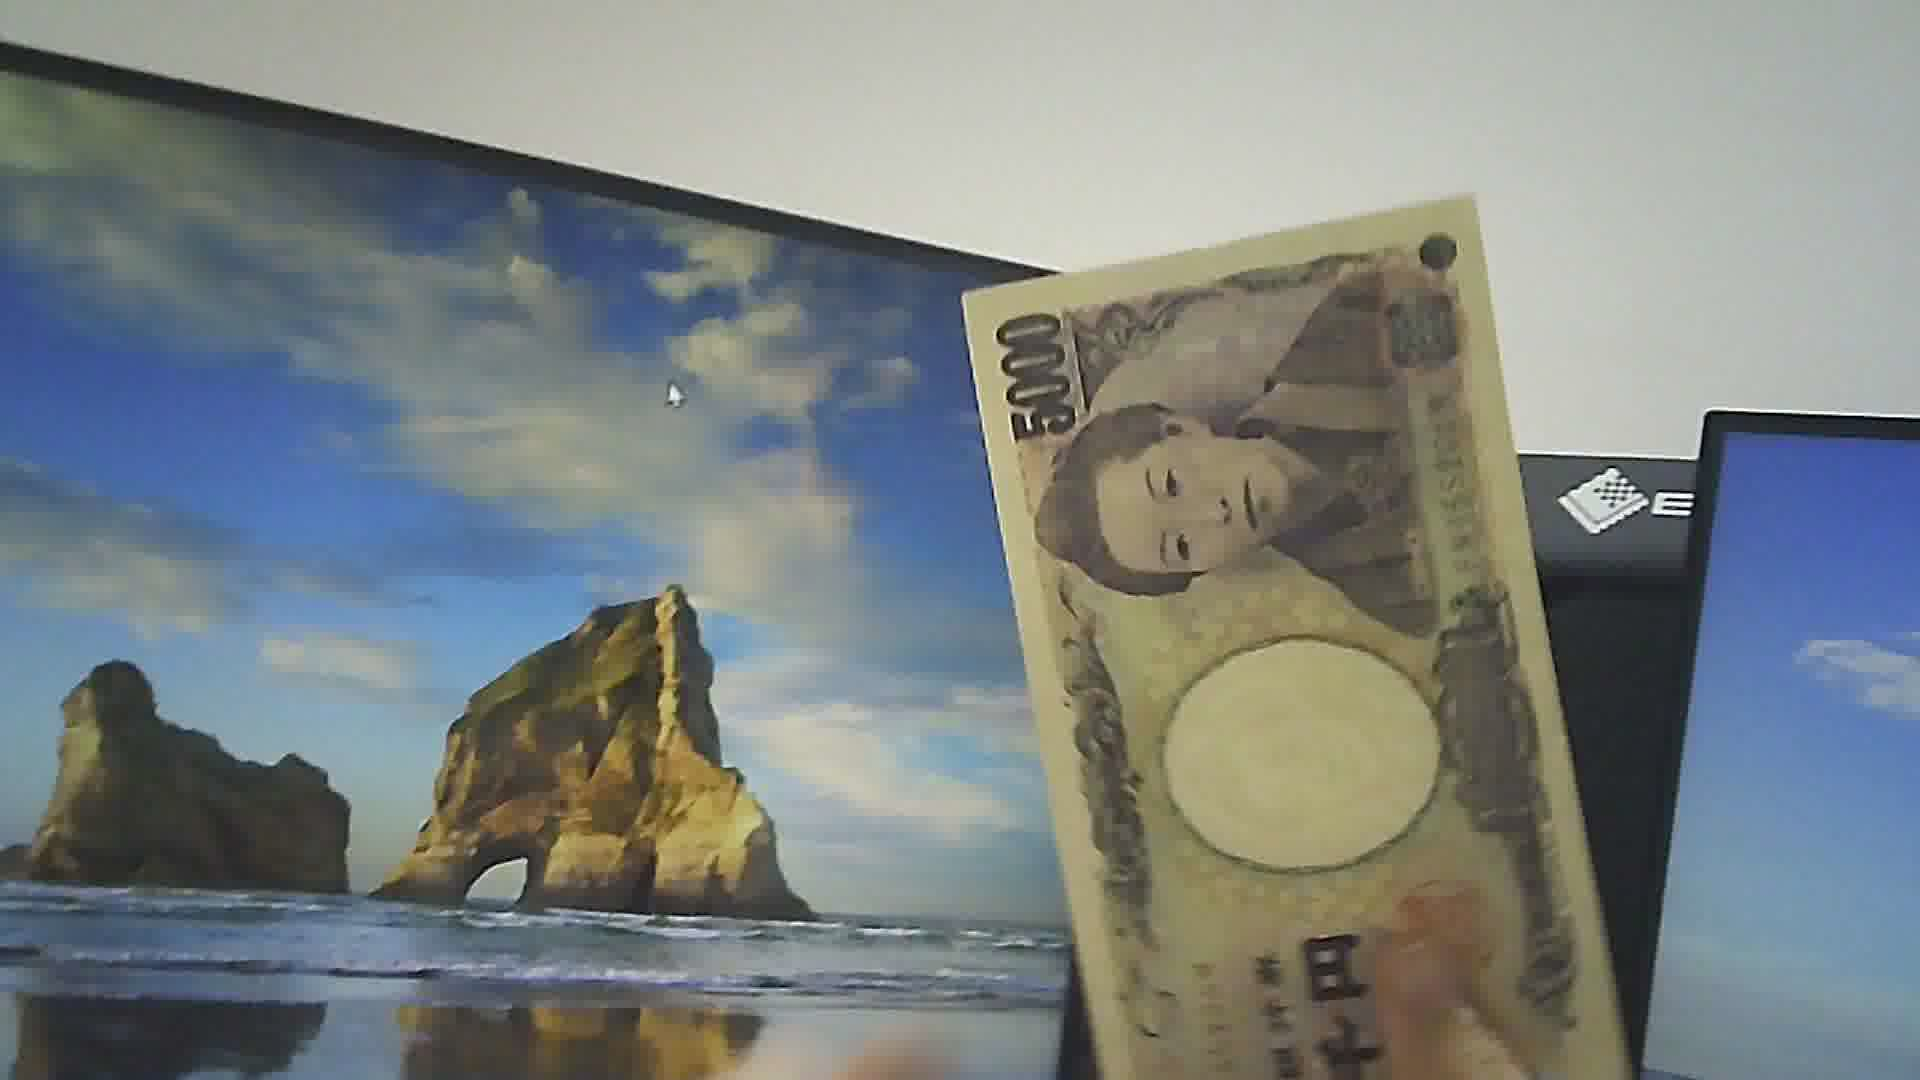5,000 Yen: (955, 225, 1636, 1079)
